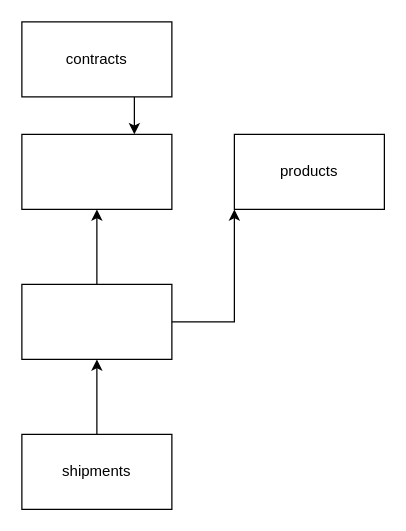
The diagram is 406 pixels wide and 531 high, and some of its shapes have lost their labels. The centre of each missing label's shape, as x and y in pixels:
"clients" belongs at point 96,171.
"orders" belongs at point 96,321.
